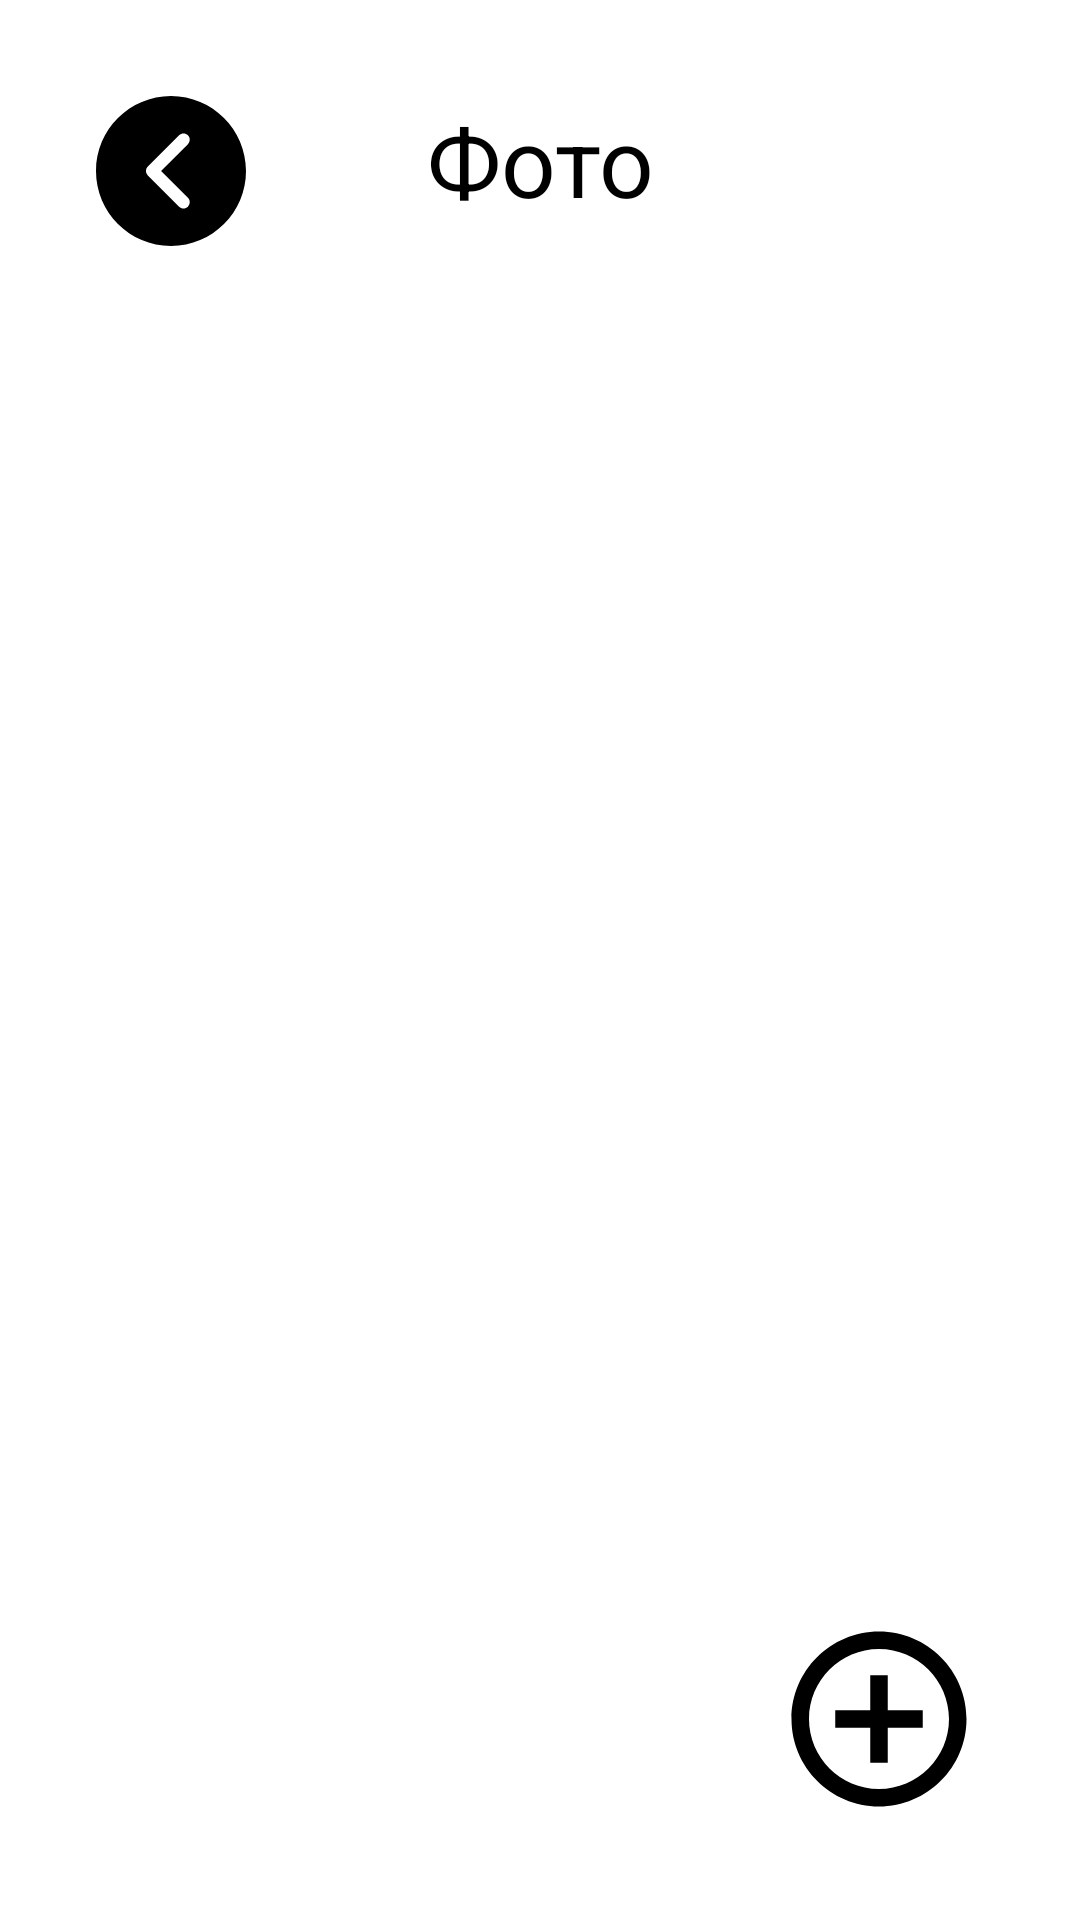

Named icons in this screenshot (1080 x 1920) and their centers, (x,y):
add: (879,1719)
left arrow: (171,171)
